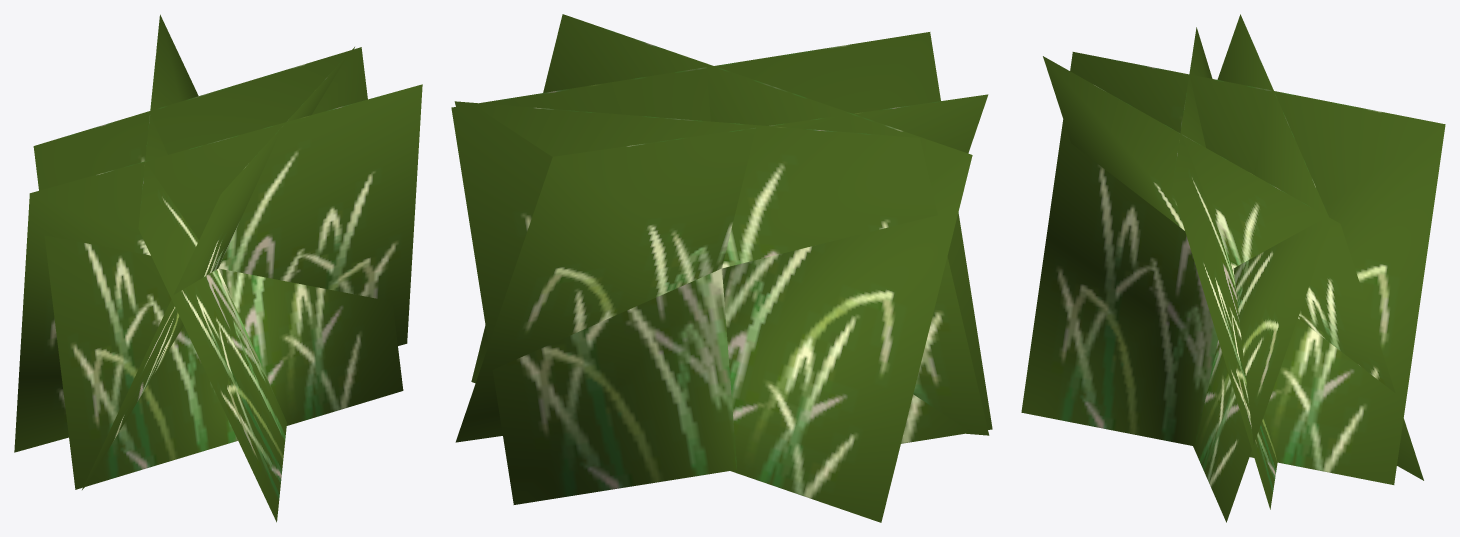
File: reeds_pond_lush_a_0.glb
The picture shows the model from 3 angles, left to right: view 1: azimuth 30°, elevation 25°; view 2: azimuth 150°, elevation 25°; view 3: azimuth 270°, elevation 25°; orthographic projection. The views are drawn at different scales.
Parts seen in each view (by area): view 1: reeds_pond_lush_a_0; view 2: reeds_pond_lush_a_0; view 3: reeds_pond_lush_a_0.
Boxes of the visible parts, <box> form: reeds_pond_lush_a_0: <box>14,14,422,522</box>; reeds_pond_lush_a_0: <box>451,14,992,522</box>; reeds_pond_lush_a_0: <box>1021,14,1445,522</box>.
Bounding box in the file's own units: 2.69 × 2.06 × 2.37.
1 material, 1 textured.
